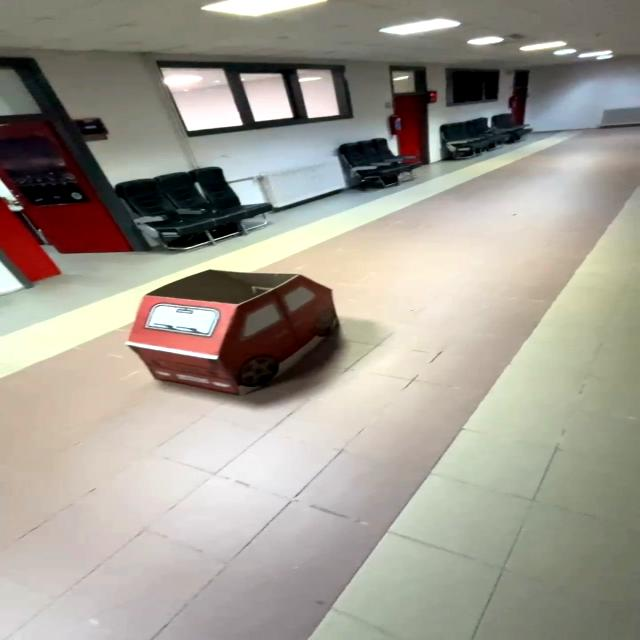red_car: (112, 265, 348, 405)
